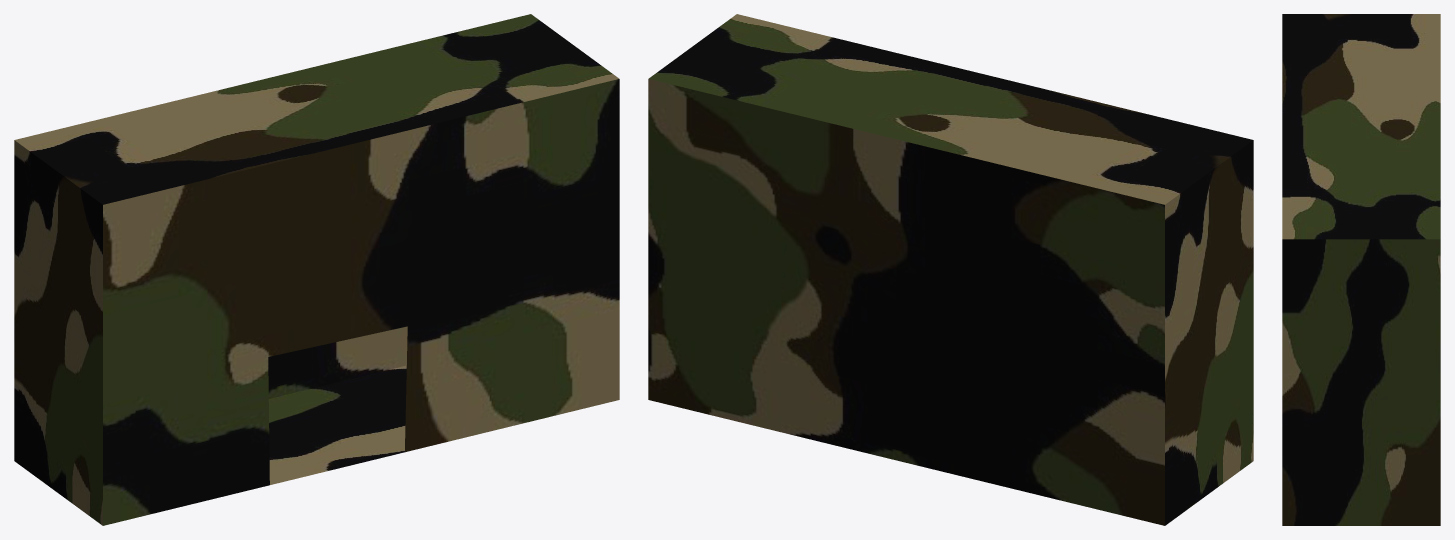
Rendered from lvl.obj.
3 renders of one model, left to right at view 1: azimuth 30°, elevation 25°; view 2: azimuth 150°, elevation 25°; view 3: azimuth 270°, elevation 25°, orthographic. The views are drawn at different scales.
Parts seen in each view (by area): view 1: Cube; view 2: Cube; view 3: Cube.
Part boxes in pixels (bbox=[...]): Cube: bbox=[14, 14, 619, 525]; Cube: bbox=[648, 14, 1253, 525]; Cube: bbox=[1282, 14, 1440, 525].
Bounding box in the file's own units: 104 × 61.71 × 30.86.
